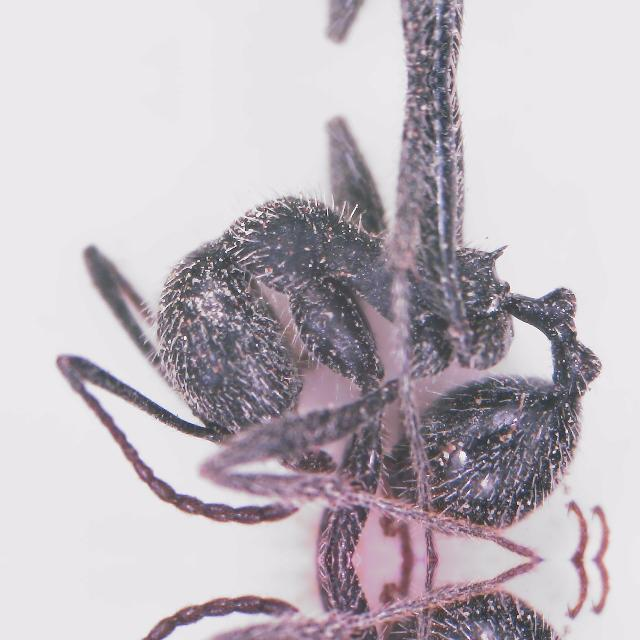Apheanogaster: (32, 105, 640, 559)
